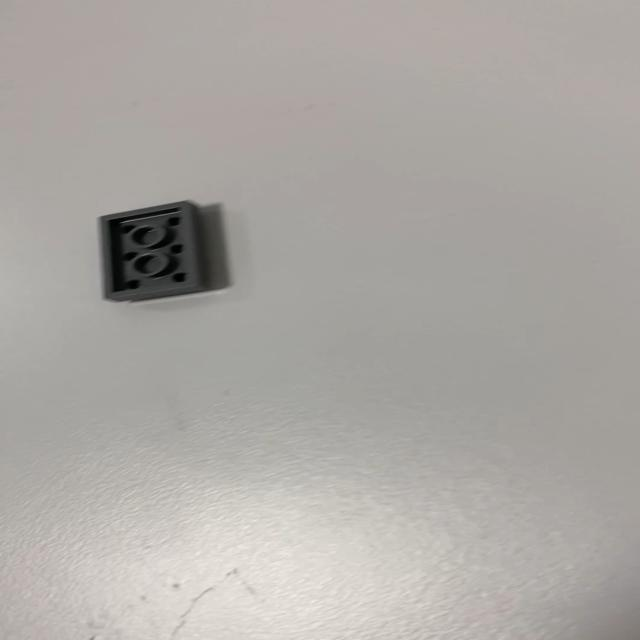C3x2x0: (96, 199, 211, 302)
